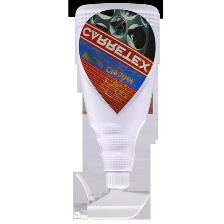cleaning_solution: (70, 1, 162, 221)
